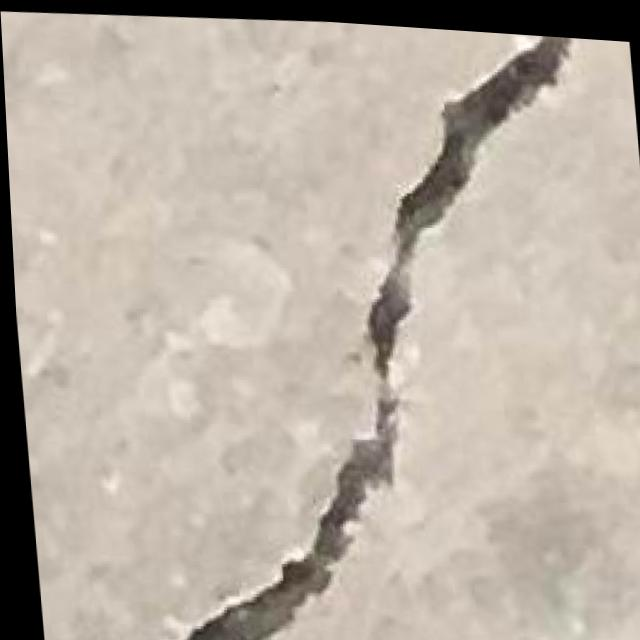Crack: (35, 2, 624, 640)
